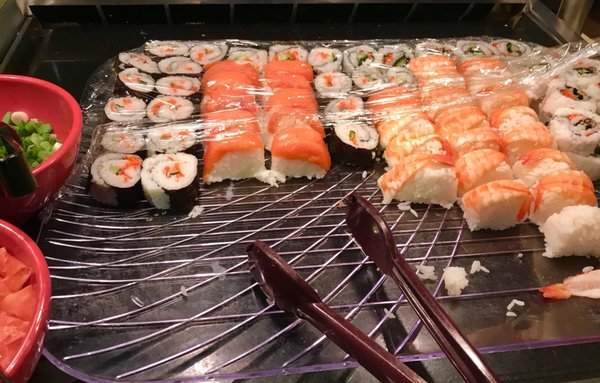sushi: (0, 73, 83, 227), (0, 217, 53, 379)
